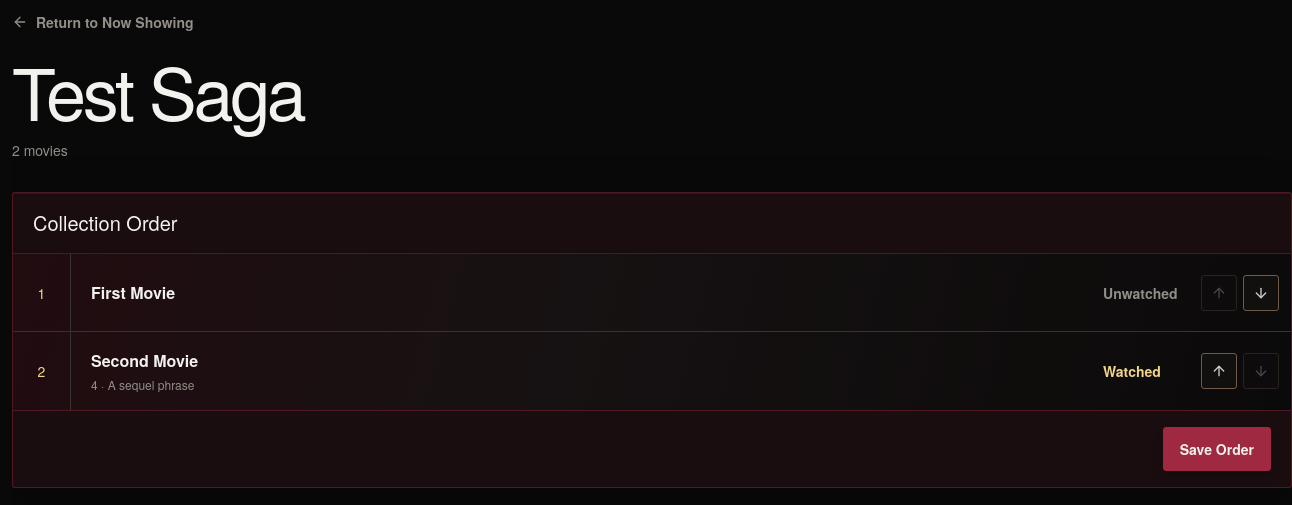
Test: collection details › returns an order confirmation to Now showing after saving
Click the button "Save Order".
click(1217, 449)  # box [1163,427,1271,471]
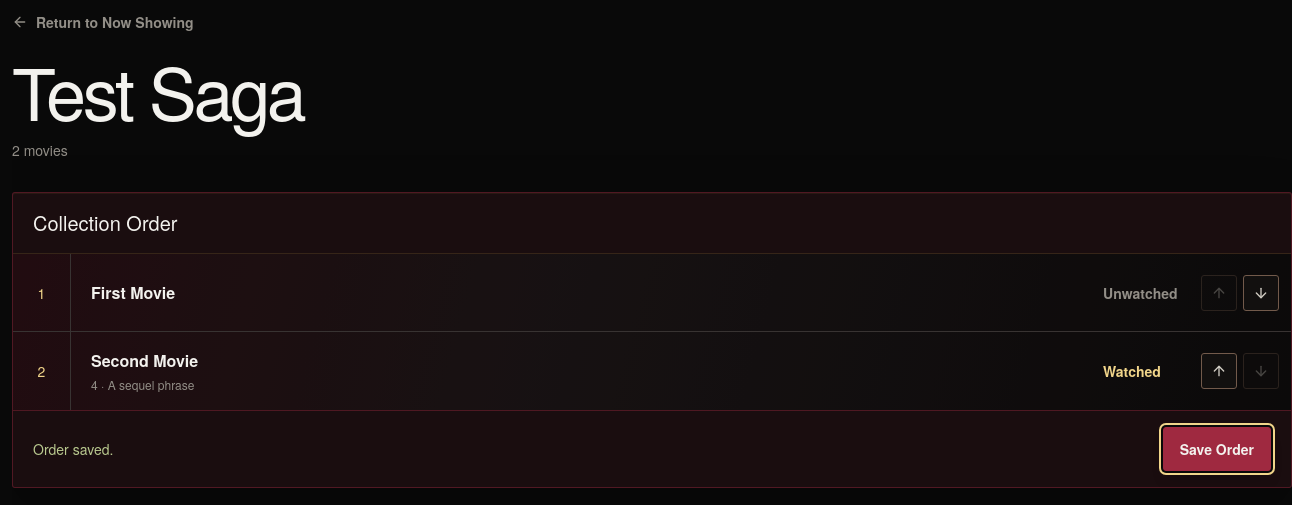
Now the message reads "Order saved.", box [33,439,113,459]
